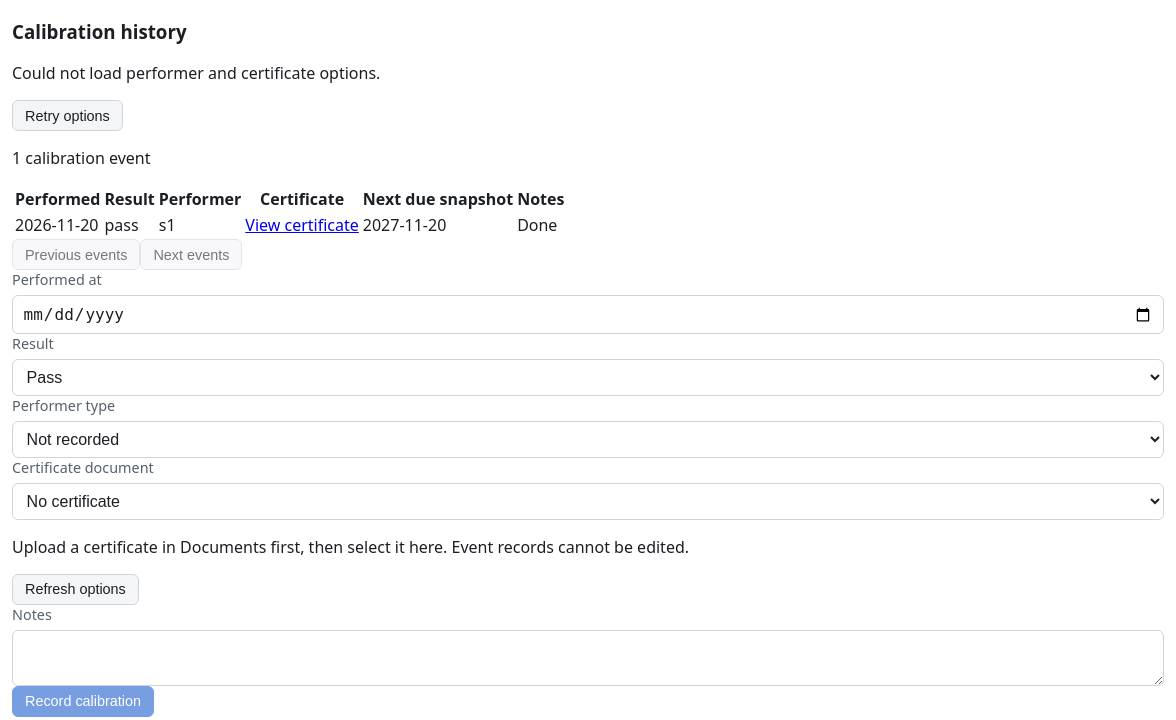
CalibrationEventsPanel › blocks recording when picker data fails and offers retry
expect the message shows "options": met, box [12,62,380,84]
expect the button "Record calibration" is disabled: met, box [12,686,154,717]
What coordinates should you click on to do the following:
click the button "Retry options"
I would click on:
 (67, 116)
Its box is [12,100,123,131].
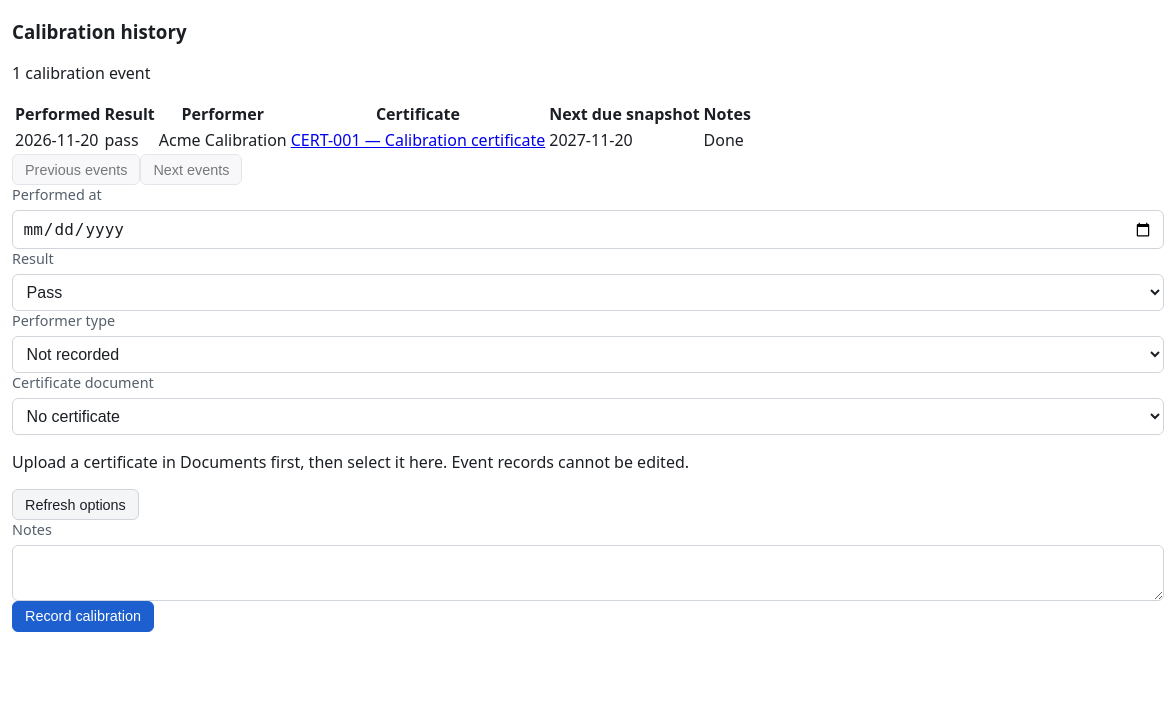
expect the button "Record calibration" is enabled: met, box [12,601,154,632]
